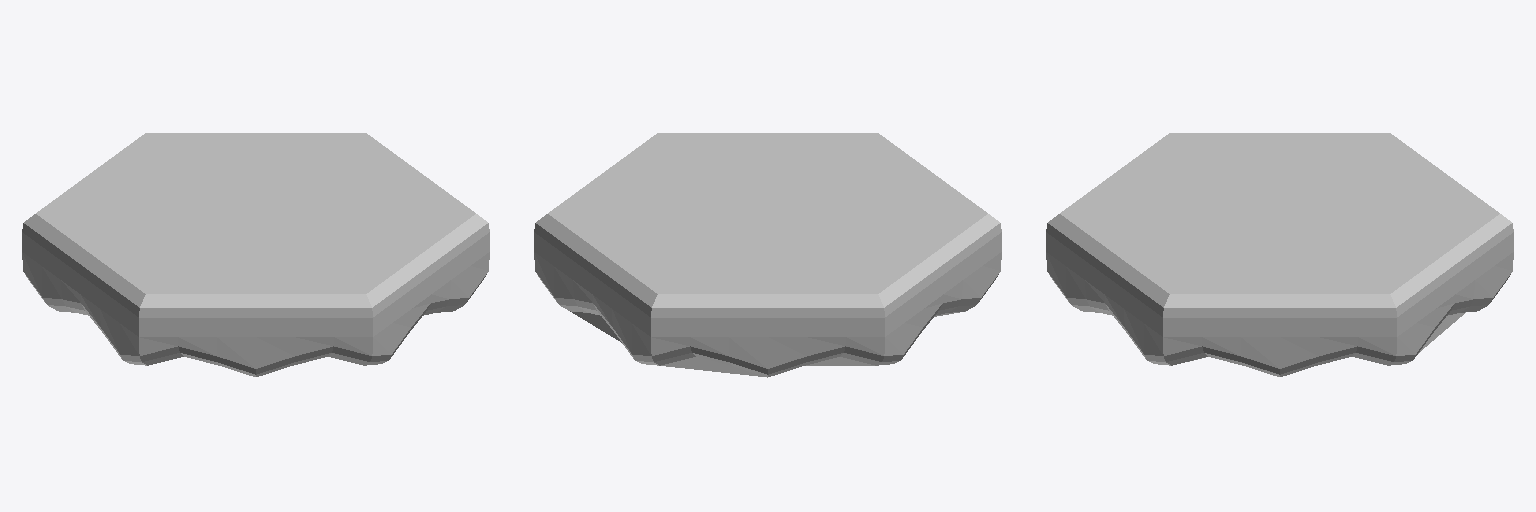
Rendered from Soil.obj.
3 renders of one model, left to right at view 1: azimuth 30°, elevation 25°; view 2: azimuth 150°, elevation 25°; view 3: azimuth 270°, elevation 25°, orthographic.
Visible parts, largest first — view 1: Cylinder.004; view 2: Cylinder.004; view 3: Cylinder.004.
Boxes of the visible parts, x1=… form: Cylinder.004: x1=22, y1=133, x2=489, y2=376; Cylinder.004: x1=534, y1=133, x2=1001, y2=377; Cylinder.004: x1=1046, y1=133, x2=1513, y2=376.
Bounding box in the file's own units: 1.84 × 0.425 × 2.12.